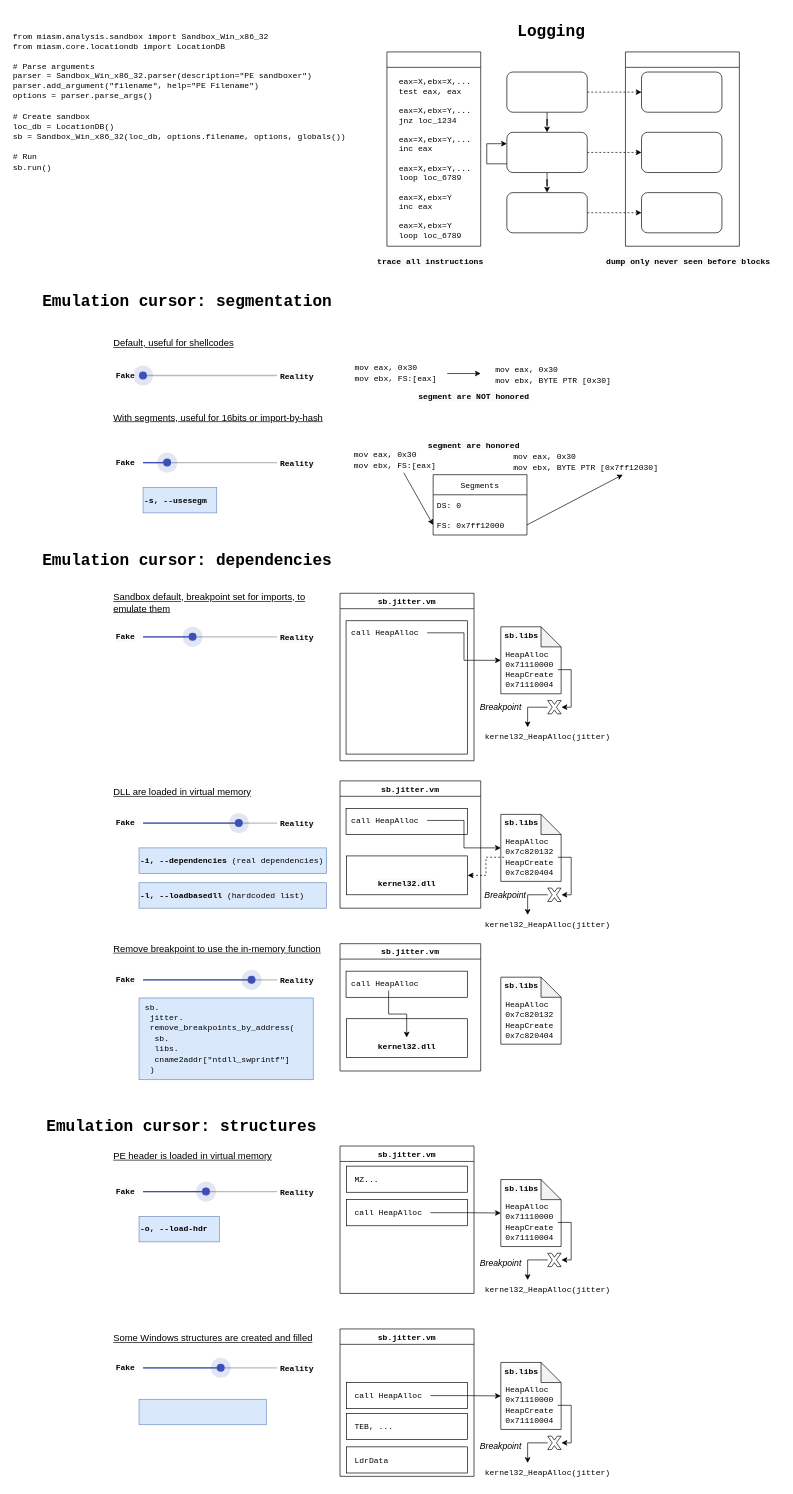
This 793x1494 diagram has some shape labels left out. The centre of each missing label's shape, as x and y in pixels:
"--dumpblocs (-b)" goes at (x=682, y=148).
"--singlestep (-z)" goes at (x=433, y=148).
"-y, --use-windows-structs" goes at (x=202, y=1412).
